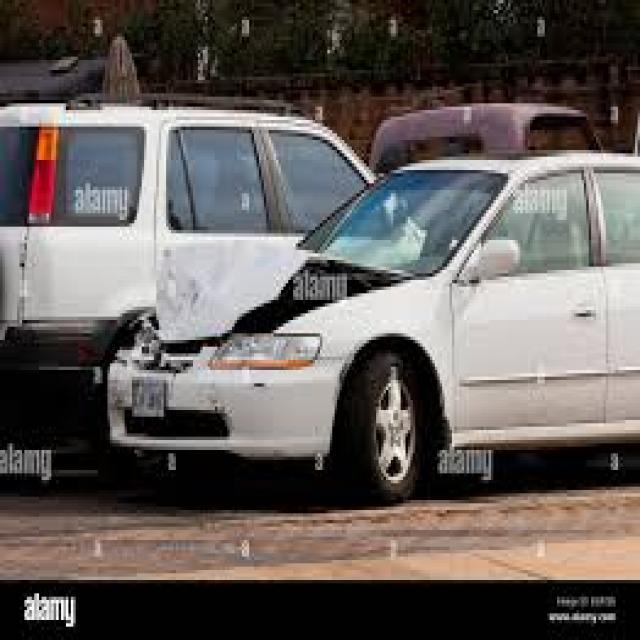damaged-hood: (146, 240, 400, 341)
